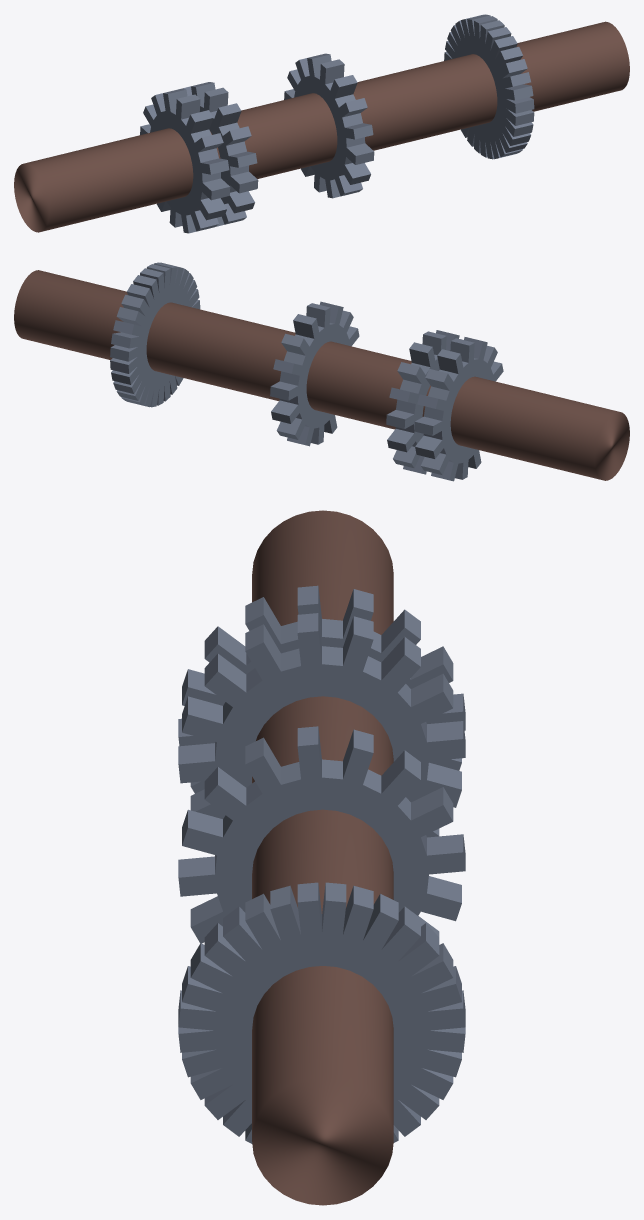
The model's file is pipe.fbx.
3 views of the same model, one above another, from view 1: azimuth 30°, elevation 25°; view 2: azimuth 150°, elevation 25°; view 3: azimuth 270°, elevation 25° (orthographic). The views are drawn at different scales.
Visible parts, largest first — view 1: Cylinder, Circle.003, Circle, Circle.001, Circle.002; view 2: Cylinder, Circle.003, Circle.001, Circle, Circle.002; view 3: Cylinder, Circle.003, Circle, Circle.002, Circle.001.
Boxes of the visible parts, x1,y1,x2,y2 form: Cylinder: (14, 21, 629, 232); Circle.003: (444, 14, 534, 159); Circle: (284, 53, 374, 198); Circle.001: (140, 88, 230, 233); Circle.002: (182, 82, 258, 226); Cylinder: (14, 270, 629, 480); Circle.003: (110, 262, 200, 407); Circle.001: (414, 337, 503, 481); Circle: (270, 301, 359, 446); Circle.002: (386, 330, 461, 474); Cylinder: (252, 510, 393, 1205); Circle.003: (178, 882, 465, 1143); Circle: (178, 726, 465, 943); Circle.002: (178, 613, 465, 837); Circle.001: (178, 585, 465, 793).
Bounding box in the file's own units: 1253 × 268 × 268.
